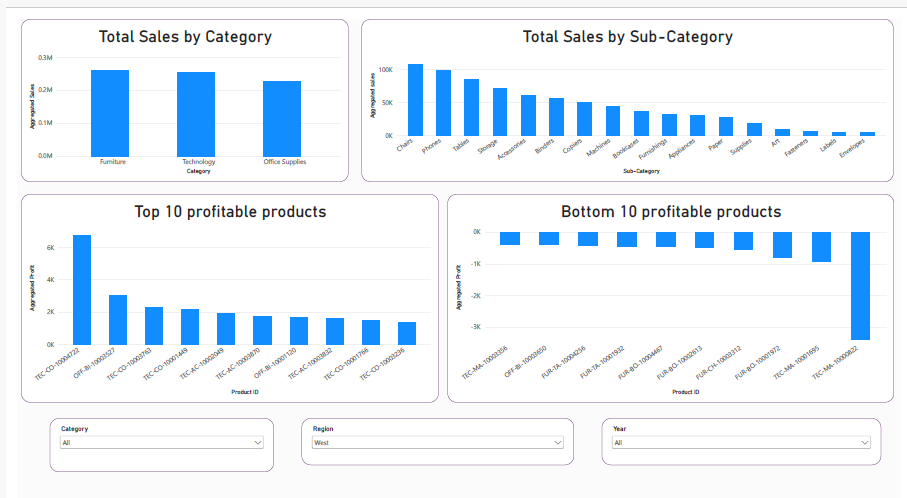

The page's visual inventory and layout, read from the dashboard file:
{"tool":"powerbi","page":{"name":"Product Analysis","canvas":[1920,1080],"ordinal":1},"visuals":[{"type":"clusteredColumnChart","title":"Total Sales by Category","fields":{"Category":["samplesuperstore.Category"],"Y":["Sum(samplesuperstore.Sales)"]},"box":[9.4,0,710.4,354],"z":0},{"type":"clusteredColumnChart","title":"Total Sales by Sub-Category","fields":{"Category":["samplesuperstore.Sub-Category"],"Y":["Sum(samplesuperstore.Sales)"]},"box":[747.9,0,1155.8,354],"z":1000},{"type":"clusteredColumnChart","title":"Top 10 profitable products","fields":{"Category":["samplesuperstore.Product ID"],"Y":["Sum(samplesuperstore.Profit)"]},"box":[8.5,379.8,907.1,453.5],"z":2000},{"type":"clusteredColumnChart","title":"Bottom 10 profitable products","fields":{"Category":["samplesuperstore.Product ID"],"Y":["Sum(samplesuperstore.Profit)"]},"box":[935.4,379.8,969.5,453.5],"z":3000},{"type":"slicer","fields":{"Values":["samplesuperstore.Category"]},"box":[70.9,867.4,487.6,116.2],"z":4000},{"type":"slicer","fields":{"Values":["samplesuperstore.Region"]},"box":[618,867.4,592.4,102],"z":5000},{"type":"slicer","fields":{"Values":["samplesuperstore.Year"]},"box":[1269.9,867.4,606.6,102],"z":6000}]}

Visuals, with their boxes in screenshot pixels (x1, y1, x2, y2), scaled from the page's 1920x1080 canvas onto the 907x498 screenshot:
"Total Sales by Category" clusteredColumnChart: 4, 0, 340, 163
"Total Sales by Sub-Category" clusteredColumnChart: 353, 0, 899, 163
"Top 10 profitable products" clusteredColumnChart: 4, 175, 433, 384
"Bottom 10 profitable products" clusteredColumnChart: 442, 175, 900, 384
slicer - samplesuperstore.Category: 33, 400, 264, 454
slicer - samplesuperstore.Region: 292, 400, 572, 447
slicer - samplesuperstore.Year: 600, 400, 886, 447
